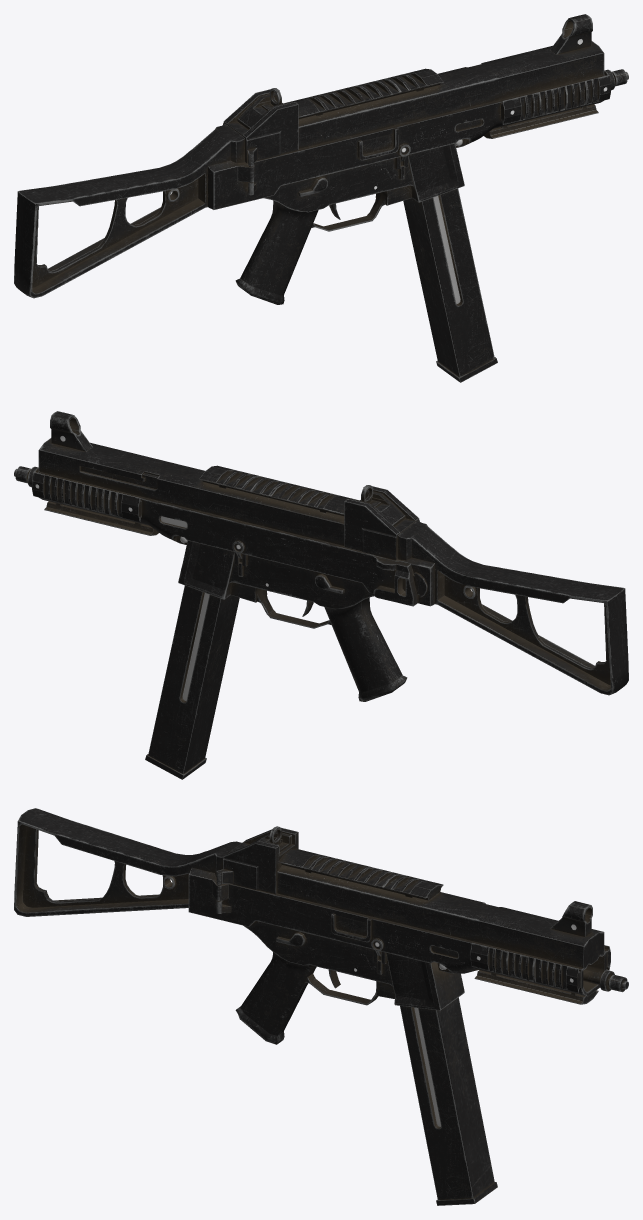
Rendered from ump.glb.
3 renders of one model, top to bottom at view 1: azimuth 30°, elevation 25°; view 2: azimuth 150°, elevation 25°; view 3: azimuth 330°, elevation 25°, orthographic.
Parts seen in each view (by area): view 1: Muzzle Holder, Main Body, Attachment Holder, Details; view 2: Muzzle Holder, Main Body, Attachment Holder, Details; view 3: Muzzle Holder, Main Body, Attachment Holder, Muzzle, Details.
Part boxes in pixels (bbox=[...]): Muzzle Holder: bbox=[14, 14, 605, 298]; Main Body: bbox=[235, 143, 497, 382]; Attachment Holder: bbox=[283, 68, 610, 138]; Details: bbox=[298, 139, 462, 196]; Muzzle Holder: bbox=[37, 411, 628, 695]; Main Body: bbox=[145, 540, 407, 779]; Attachment Holder: bbox=[32, 465, 359, 535]; Details: bbox=[180, 536, 344, 593]; Muzzle Holder: bbox=[14, 808, 606, 996]; Main Body: bbox=[235, 921, 497, 1205]; Attachment Holder: bbox=[278, 848, 610, 1004]; Muzzle: bbox=[583, 969, 628, 992]; Details: bbox=[276, 932, 446, 974].
Size of the model in its own units: 4.36 by 2.25 by 0.4412.
Materials: 1 (1 with a texture image).
